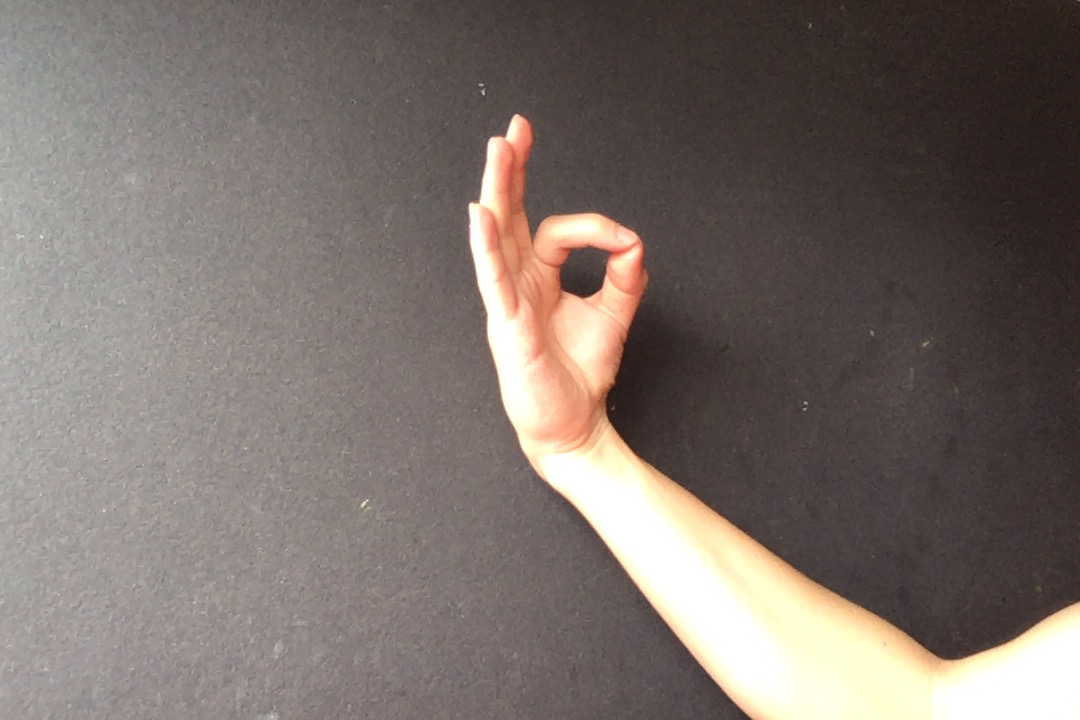oksign: (459, 110, 657, 458)
